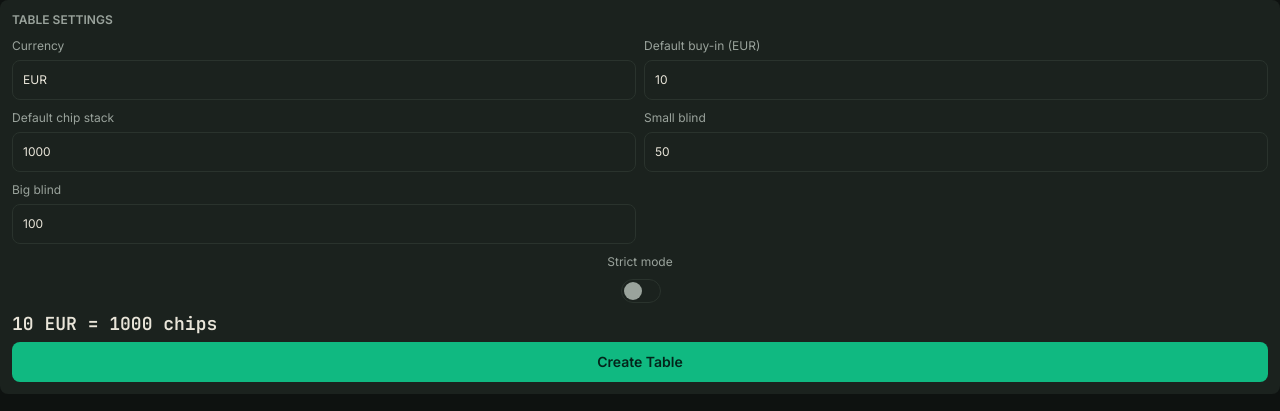
Test: ConsoleCreateForm › shows the money-to-chip relationship and keeps it live
This screenshot has width=1280, height=411.
Check: the text "10 EUR = 1000 chips" is shown, box [12,312,217,335]
Replace the text in the number field labelled "Default chip stack" with "2000" at (324, 152), box [12,132,636,172]
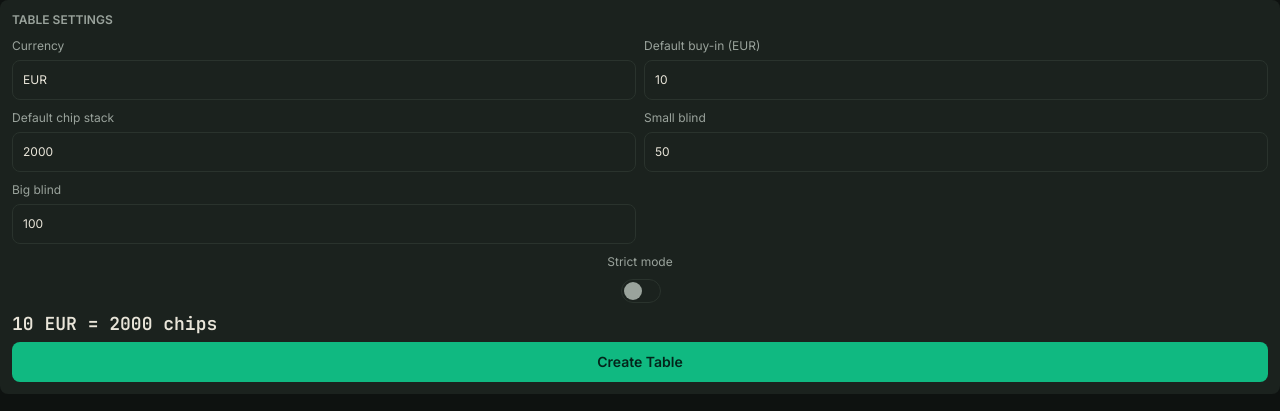
Check: the text "10 EUR = 2000 chips" is shown, box [12,312,217,335]
